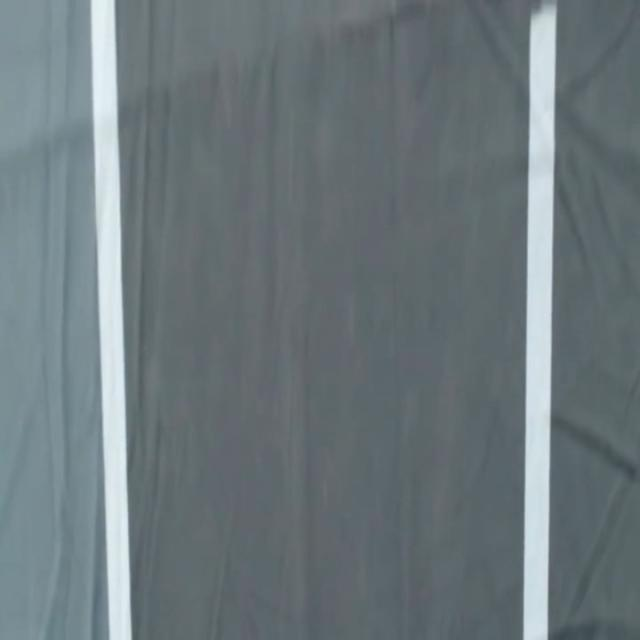center: (523, 0, 556, 639)
left: (91, 0, 131, 639)
